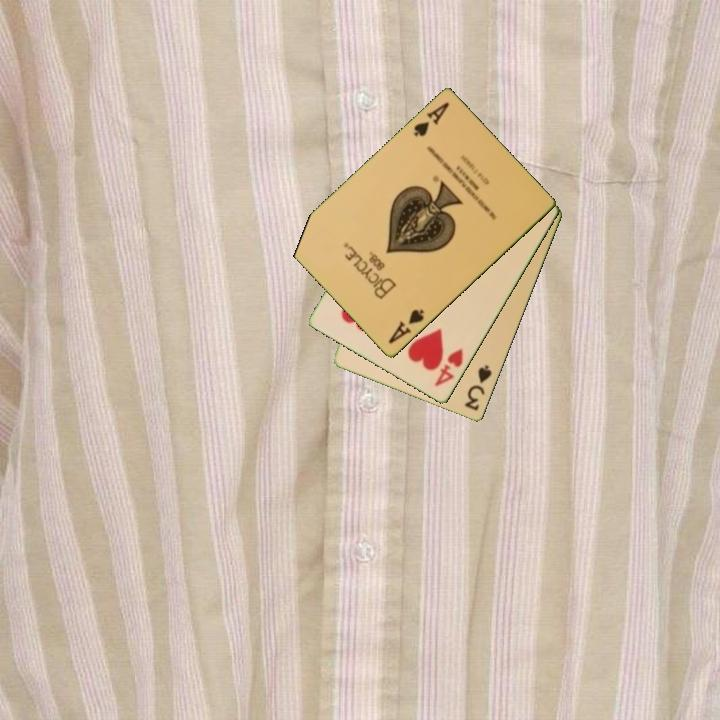3s: (461, 362, 495, 414)
4h: (431, 345, 466, 390)
As: (384, 306, 427, 347), (410, 99, 452, 140)
